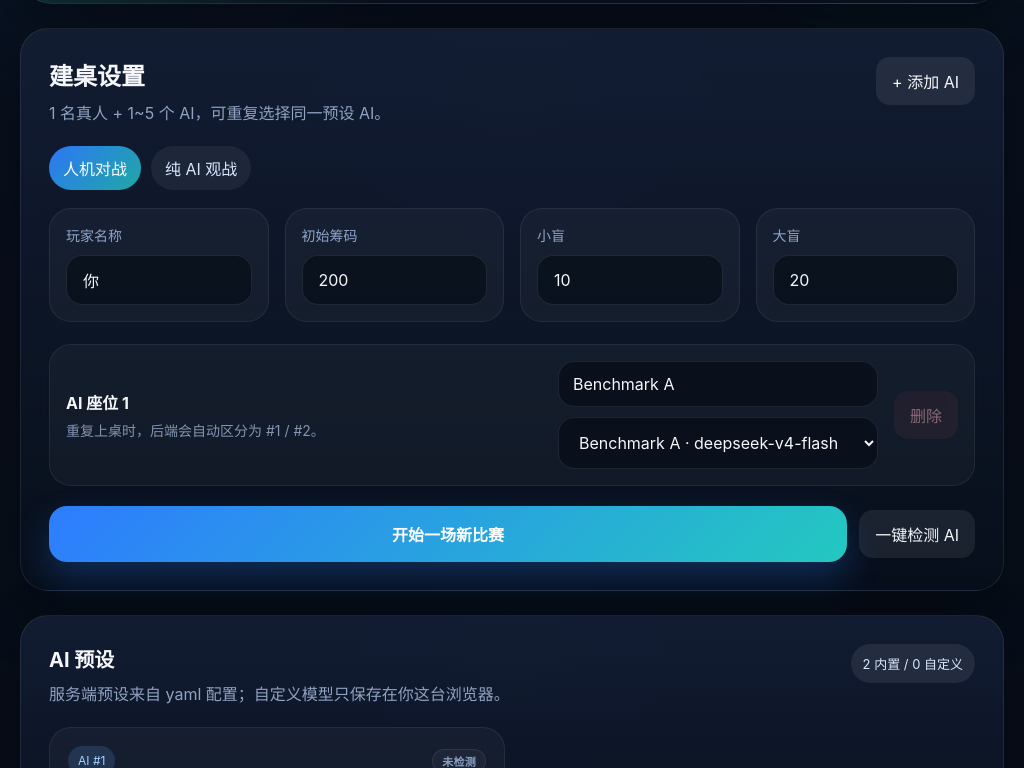
Test: App flow › keeps a user-edited AI name when other seats are added or removed
(page scrolled)
Expected: the heading "建桌设置" is shown, [49, 62, 145, 91]
Step 1. Replace the text in the field with placeholder "给这个 AI 起个名字" with "小狐狸" → [718, 384], box [558, 361, 878, 407]
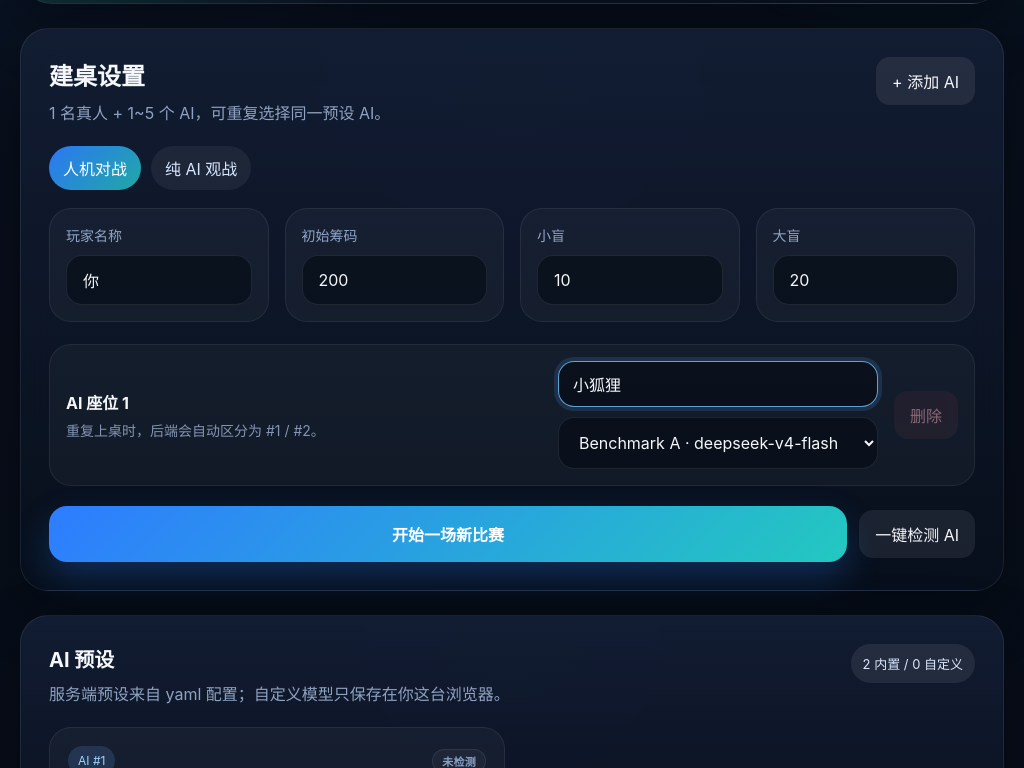
Step 2. Click the button "+ 添加 AI" → [926, 81], box [876, 57, 975, 105]
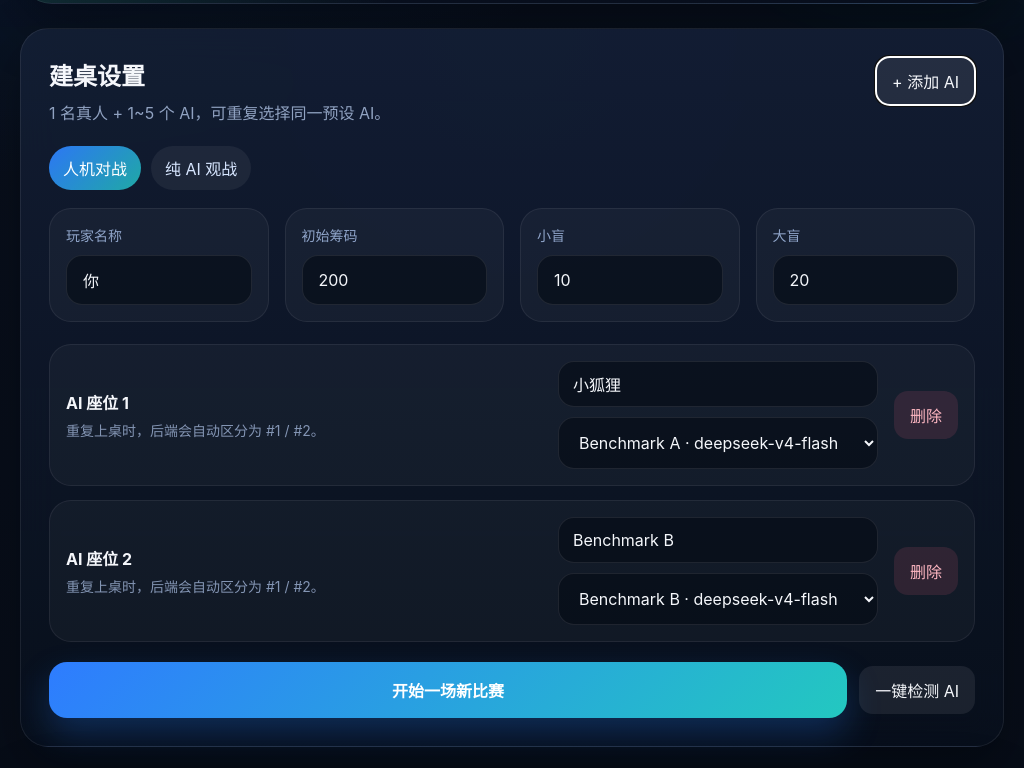
Result: the 2nd field showing "Benchmark B" is shown at [558, 517, 878, 563]
